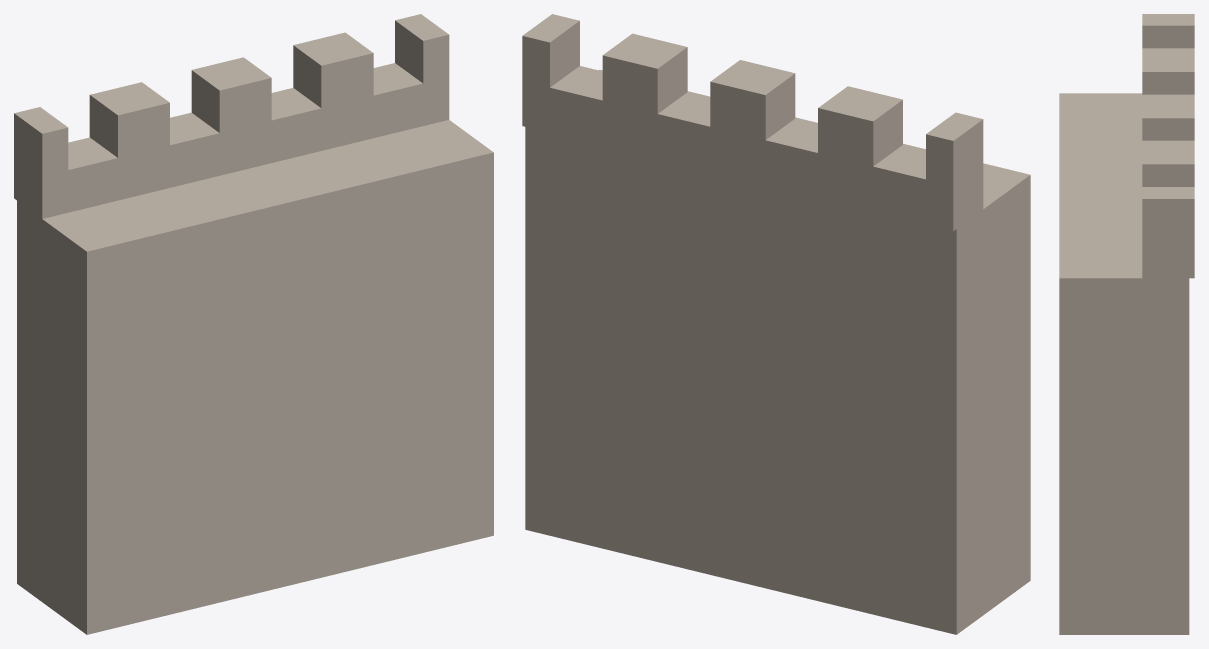
The model's file is SPW_Medieval_Castle_Wall_01.glb.
3 views of the same model, side by side, from view 1: azimuth 30°, elevation 25°; view 2: azimuth 150°, elevation 25°; view 3: azimuth 270°, elevation 25° (orthographic). The views are drawn at different scales.
Parts seen in each view (by area): view 1: SPW_Medieval_Castle_Wall_01; view 2: SPW_Medieval_Castle_Wall_01; view 3: SPW_Medieval_Castle_Wall_01.
Boxes of the visible parts, box(x1,y1,x2,y2) form: SPW_Medieval_Castle_Wall_01: box(14, 14, 493, 634); SPW_Medieval_Castle_Wall_01: box(522, 14, 1030, 634); SPW_Medieval_Castle_Wall_01: box(1059, 14, 1194, 634).
Bounding box in the file's own units: 5 × 5.5 × 1.55.
1 material, 1 textured.
